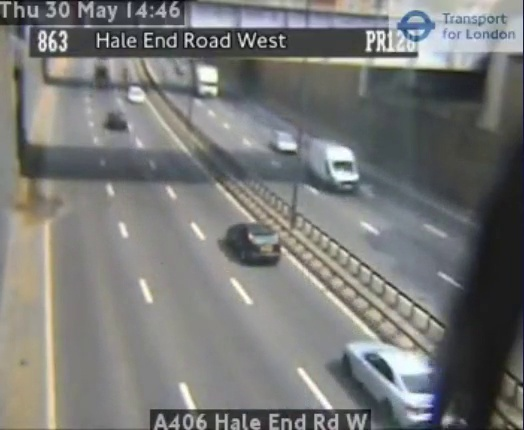car: (344, 341, 437, 424), (227, 223, 281, 263)
